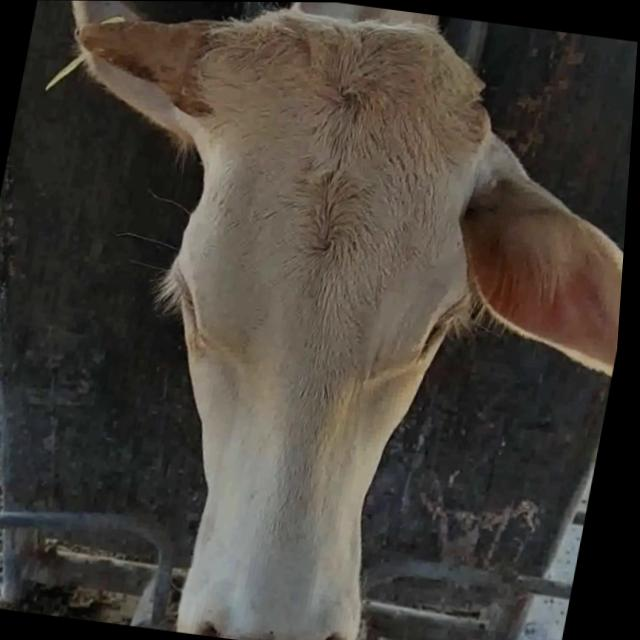cowFace: (111, 1, 514, 640)
